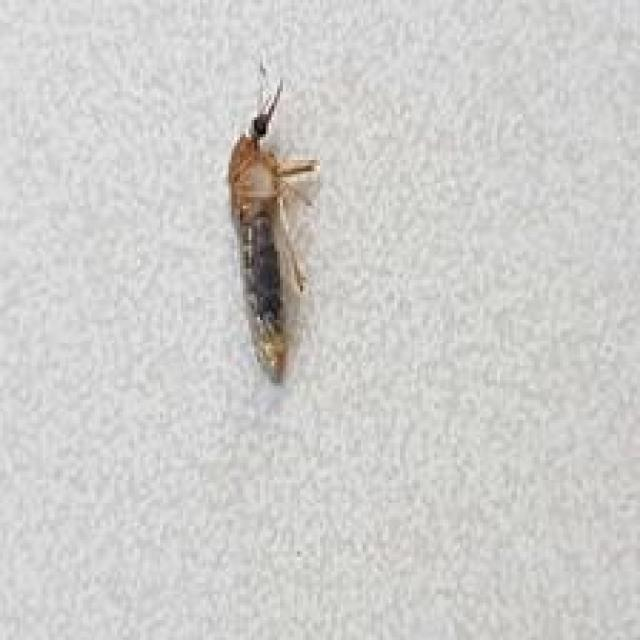Culex: (224, 57, 324, 386)
